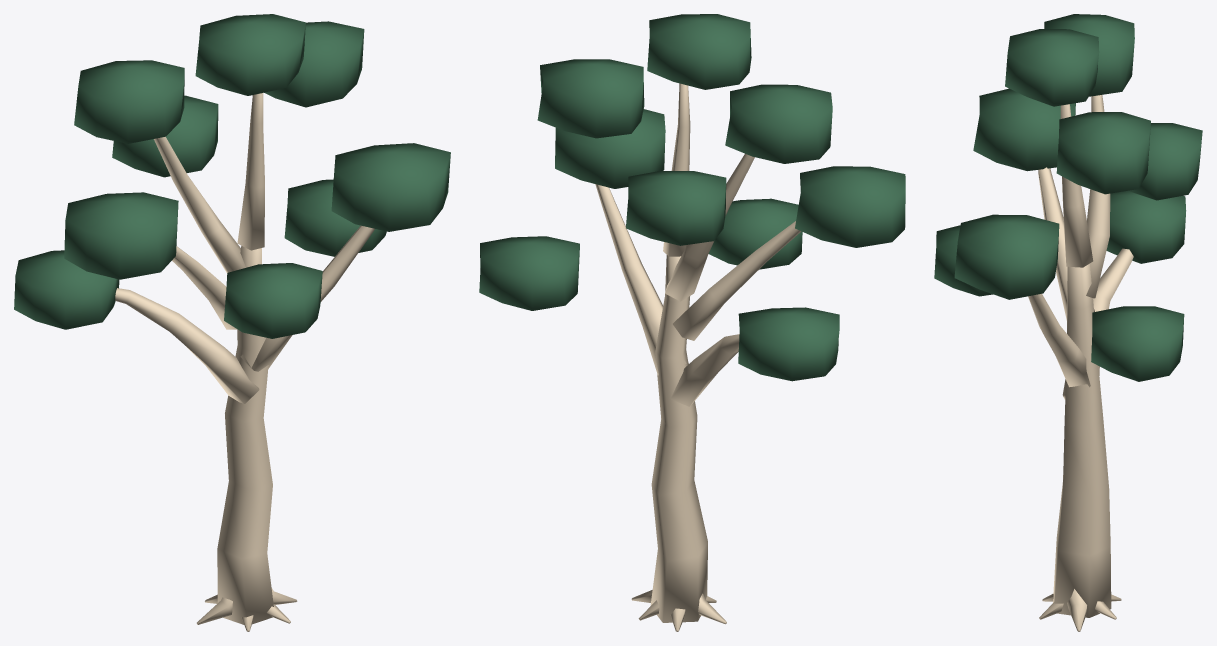
Rendered from TREE_EUCALYPTUS_001_v005_LOD_MAP.glb.
3 views of the same model, side by side, from view 1: azimuth 30°, elevation 25°; view 2: azimuth 150°, elevation 25°; view 3: azimuth 270°, elevation 25° (orthographic). The views are drawn at different scales.
Parts seen in each view (by area): view 1: TREE_EUCALYPTUS_001_MAP_STYLIZED_LEAF_CLUSTERS, TREE_EUCALYPTUS_001_MAP_ORGANIC_LIMB_0, TREE_EUCALYPTUS_001_MAP_ORGANIC_LIMB_1, TREE_EUCALYPTUS_001_MAP_ORGANIC_LIMB_4, TREE_EUCALYPTUS_001_MAP_ORGANIC_LIMB_3, TREE_EUCALYPTUS_001_MAP_ORGANIC_LIMB_5, TREE_EUCALYPTUS_001_MAP_ORGANIC_LIMB_2; view 2: TREE_EUCALYPTUS_001_MAP_STYLIZED_LEAF_CLUSTERS, TREE_EUCALYPTUS_001_MAP_ORGANIC_LIMB_0, TREE_EUCALYPTUS_001_MAP_ORGANIC_LIMB_5, TREE_EUCALYPTUS_001_MAP_ORGANIC_LIMB_2, TREE_EUCALYPTUS_001_MAP_ORGANIC_LIMB_3, TREE_EUCALYPTUS_001_MAP_ORGANIC_LIMB_1, TREE_EUCALYPTUS_001_MAP_ORGANIC_LIMB_4; view 3: TREE_EUCALYPTUS_001_MAP_STYLIZED_LEAF_CLUSTERS, TREE_EUCALYPTUS_001_MAP_ORGANIC_LIMB_0, TREE_EUCALYPTUS_001_MAP_ORGANIC_LIMB_4, TREE_EUCALYPTUS_001_MAP_ORGANIC_LIMB_5, TREE_EUCALYPTUS_001_MAP_ORGANIC_LIMB_3, TREE_EUCALYPTUS_001_MAP_ORGANIC_LIMB_2, TREE_EUCALYPTUS_001_MAP_ORGANIC_LIMB_1, TREE_EUCALYPTUS_001_MAP_ROOT_FLARE_0.
Boxes of the visible parts, bbox=[...] form: TREE_EUCALYPTUS_001_MAP_STYLIZED_LEAF_CLUSTERS: bbox=[14, 14, 450, 338]; TREE_EUCALYPTUS_001_MAP_ORGANIC_LIMB_0: bbox=[217, 245, 273, 624]; TREE_EUCALYPTUS_001_MAP_ORGANIC_LIMB_1: bbox=[115, 288, 259, 403]; TREE_EUCALYPTUS_001_MAP_ORGANIC_LIMB_4: bbox=[237, 93, 264, 250]; TREE_EUCALYPTUS_001_MAP_ORGANIC_LIMB_3: bbox=[154, 136, 245, 273]; TREE_EUCALYPTUS_001_MAP_ORGANIC_LIMB_5: bbox=[240, 225, 374, 371]; TREE_EUCALYPTUS_001_MAP_ORGANIC_LIMB_2: bbox=[172, 246, 237, 329]; TREE_EUCALYPTUS_001_MAP_STYLIZED_LEAF_CLUSTERS: bbox=[479, 14, 905, 381]; TREE_EUCALYPTUS_001_MAP_ORGANIC_LIMB_0: bbox=[650, 255, 707, 622]; TREE_EUCALYPTUS_001_MAP_ORGANIC_LIMB_5: bbox=[595, 184, 688, 375]; TREE_EUCALYPTUS_001_MAP_ORGANIC_LIMB_2: bbox=[673, 221, 800, 340]; TREE_EUCALYPTUS_001_MAP_ORGANIC_LIMB_3: bbox=[665, 154, 754, 301]; TREE_EUCALYPTUS_001_MAP_ORGANIC_LIMB_1: bbox=[670, 334, 739, 406]; TREE_EUCALYPTUS_001_MAP_ORGANIC_LIMB_4: bbox=[663, 83, 690, 256]; TREE_EUCALYPTUS_001_MAP_STYLIZED_LEAF_CLUSTERS: bbox=[934, 14, 1202, 381]; TREE_EUCALYPTUS_001_MAP_ORGANIC_LIMB_0: bbox=[1053, 263, 1111, 617]; TREE_EUCALYPTUS_001_MAP_ORGANIC_LIMB_4: bbox=[1060, 104, 1093, 267]; TREE_EUCALYPTUS_001_MAP_ORGANIC_LIMB_5: bbox=[1028, 293, 1090, 387]; TREE_EUCALYPTUS_001_MAP_ORGANIC_LIMB_3: bbox=[1067, 95, 1110, 298]; TREE_EUCALYPTUS_001_MAP_ORGANIC_LIMB_2: bbox=[1038, 167, 1094, 320]; TREE_EUCALYPTUS_001_MAP_ORGANIC_LIMB_1: bbox=[1062, 248, 1133, 399]; TREE_EUCALYPTUS_001_MAP_ROOT_FLARE_0: bbox=[1067, 589, 1086, 631].
Size of the model in its own units: 9.13 by 14 by 5.99.
